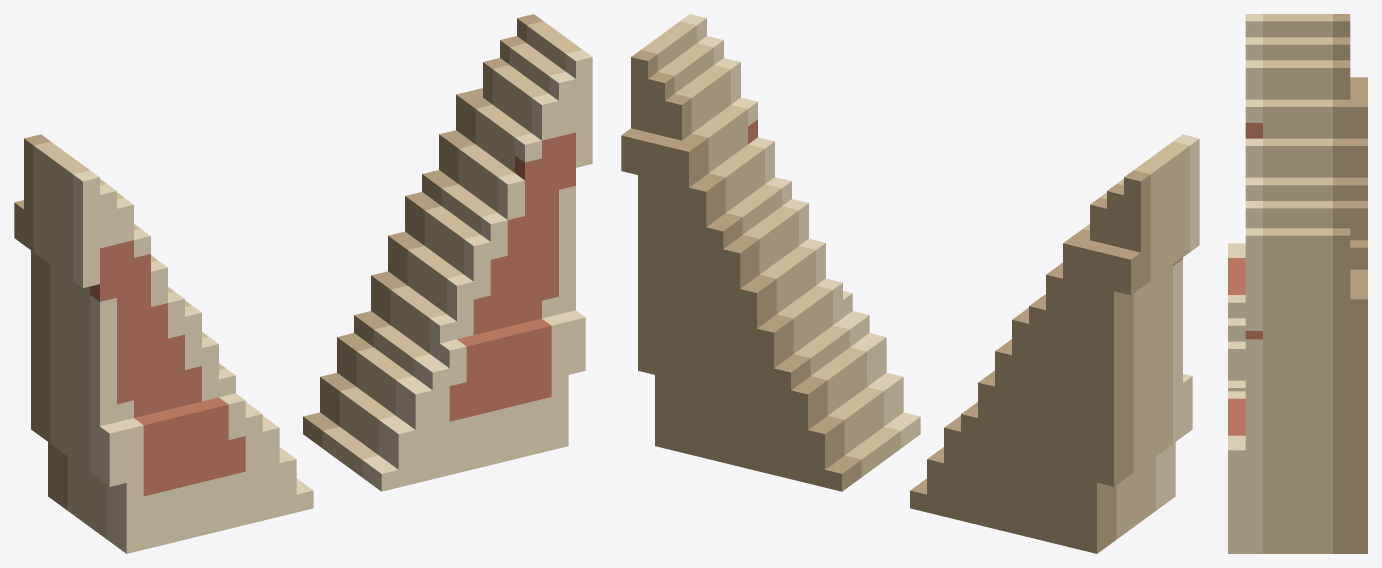
The model's file is asobi_female_hair.glb.
3 renders of one model, left to right at view 1: azimuth 30°, elevation 25°; view 2: azimuth 150°, elevation 25°; view 3: azimuth 270°, elevation 25°, orthographic. The views are drawn at different scales.
Parts seen in each view (by area): view 1: Asobi_Export_Hair; view 2: Asobi_Export_Hair; view 3: Asobi_Export_Hair.
Boxes of the visible parts, x1=… form: Asobi_Export_Hair: x1=14, y1=14, x2=592, y2=553; Asobi_Export_Hair: x1=621, y1=14, x2=1199, y2=553; Asobi_Export_Hair: x1=1228, y1=14, x2=1367, y2=553.
Bounding box in the file's own units: 0.6 × 0.42 × 0.16.
Materials: 4 (4 with a texture image).
